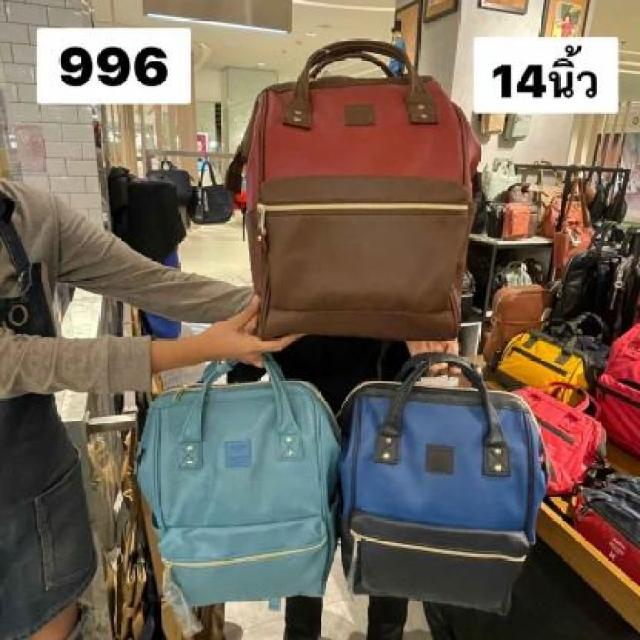Bag: (212, 40, 506, 358), (335, 334, 567, 620), (107, 346, 345, 617)
